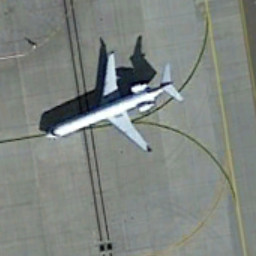Airplane: (33, 33, 191, 178)
